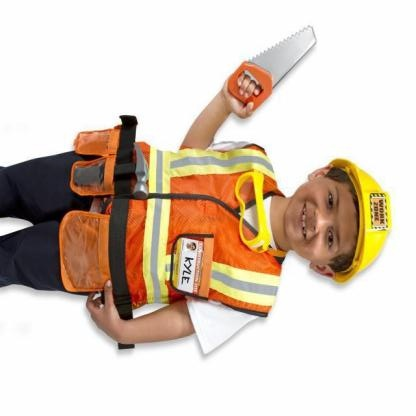vest: (67, 122, 290, 315)
yellow: (327, 147, 397, 296)
